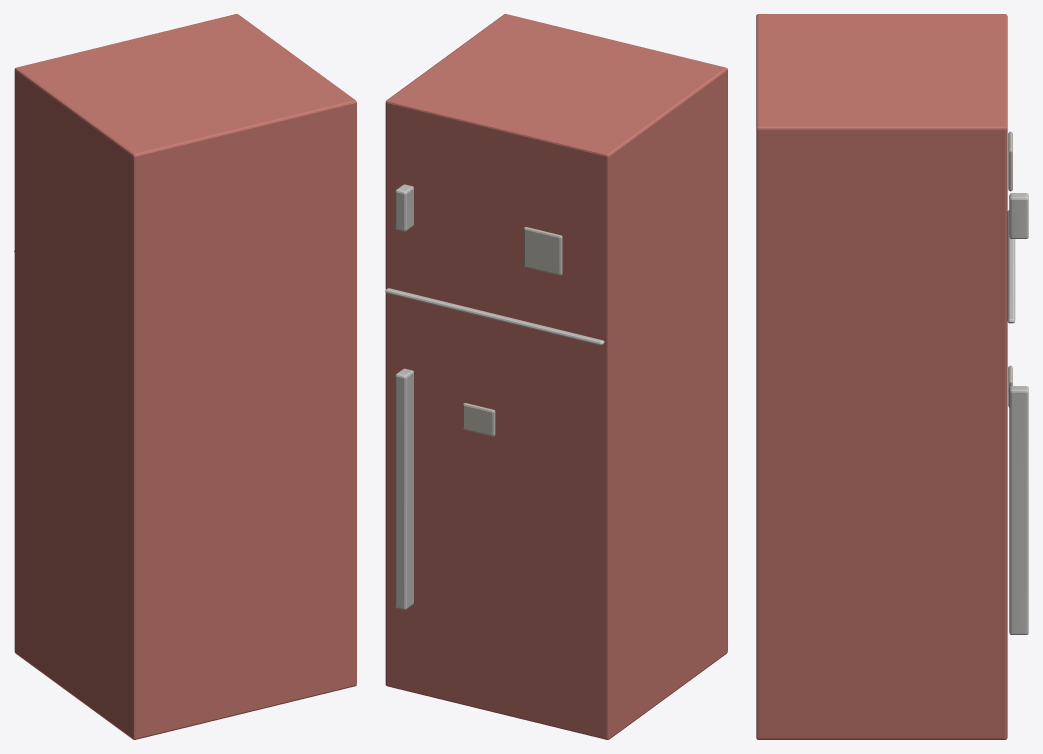
The model's file is furn_fridge__red.glb.
The picture shows the model from 3 angles, left to right: view 1: azimuth 30°, elevation 25°; view 2: azimuth 150°, elevation 25°; view 3: azimuth 270°, elevation 25°; orthographic projection. The views are drawn at different scales.
Bounding box in the file's own units: 0.7 × 1.75 × 0.705.
